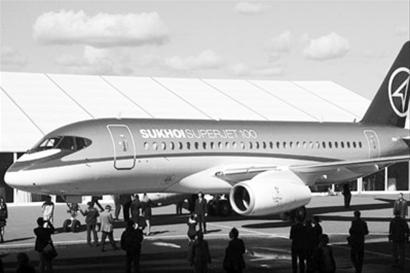airplane: (1, 38, 410, 207)
